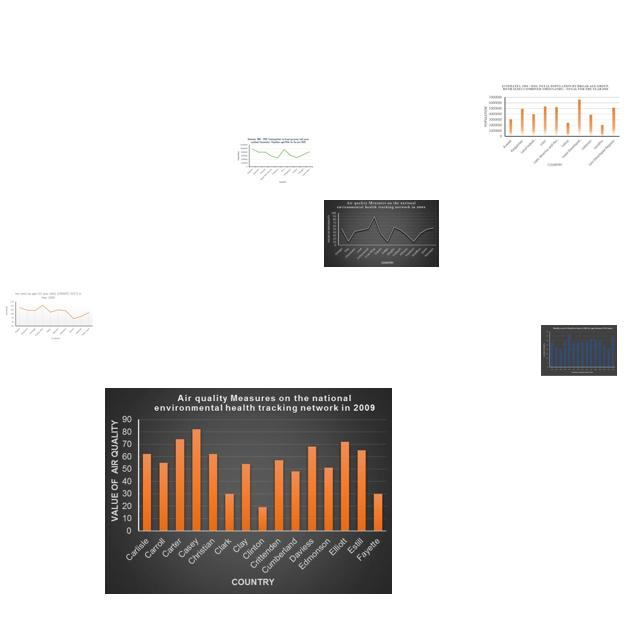Graph: (105, 388, 392, 594), (481, 84, 622, 167), (324, 200, 439, 267), (5, 290, 94, 340), (541, 325, 617, 376), (235, 136, 314, 183)
